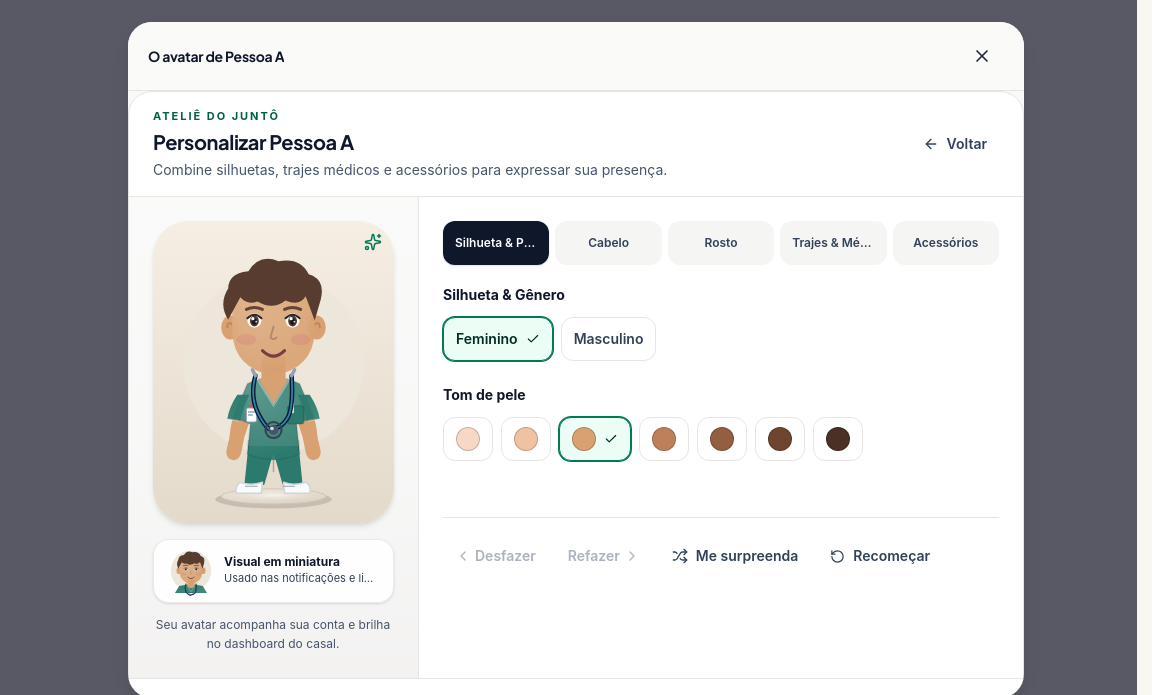
explicit demo adoption and conflict recovery › loads the saved version on request rather than silently overwriting the local draft
This screenshot has width=1152, height=695.
Click the button named "Tom de pele: Porcelana": (468, 439) [443,417,493,461]
(page scrolled)
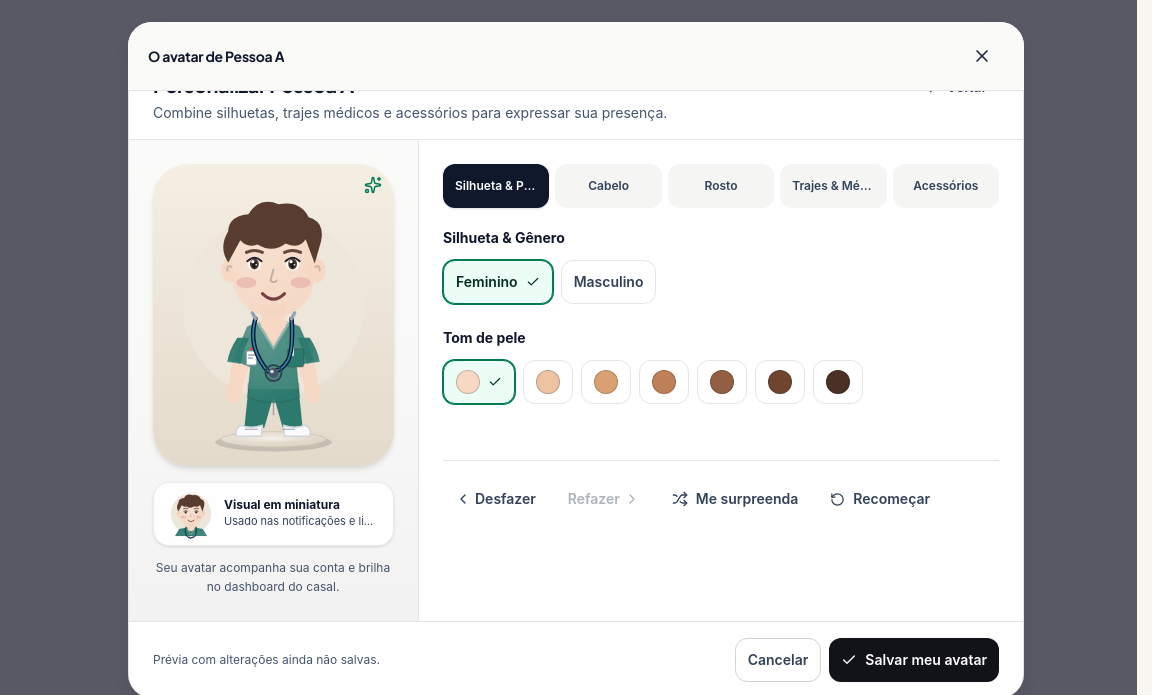
Click the button "Salvar meu avatar": (914, 660) [829,638,999,682]
(page scrolled)
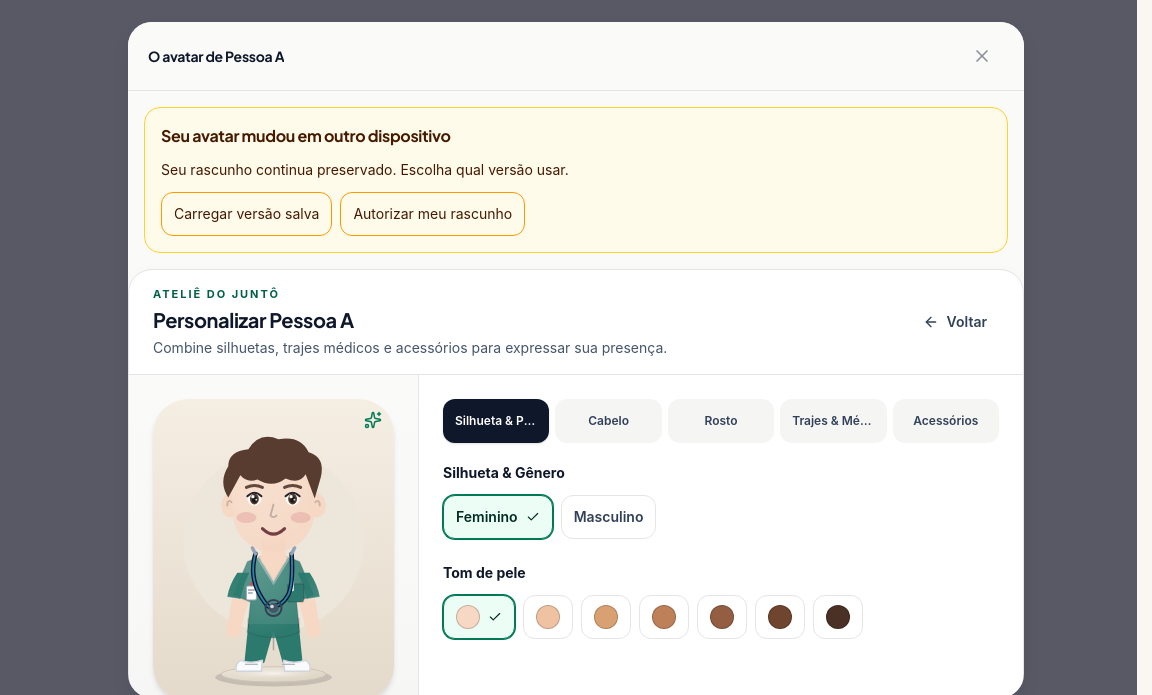
Click the button "Carregar versão salva": (247, 214) [161,192,332,236]
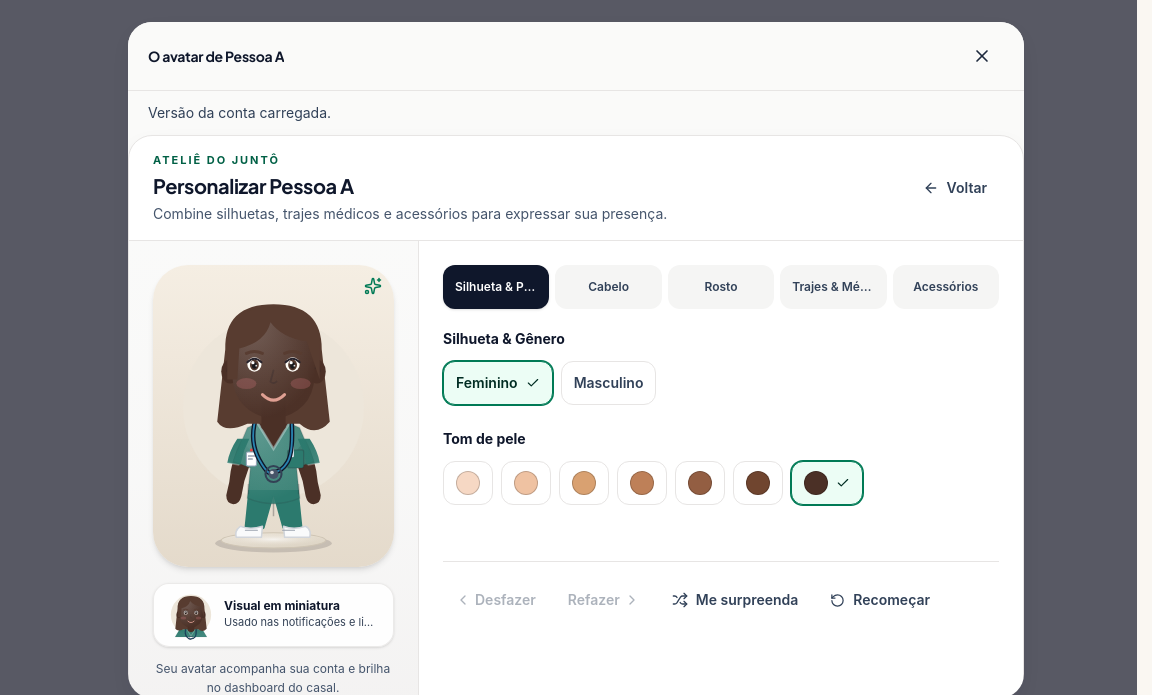
Now the button "Desfazer" is disabled, box [443,578,548,622]
